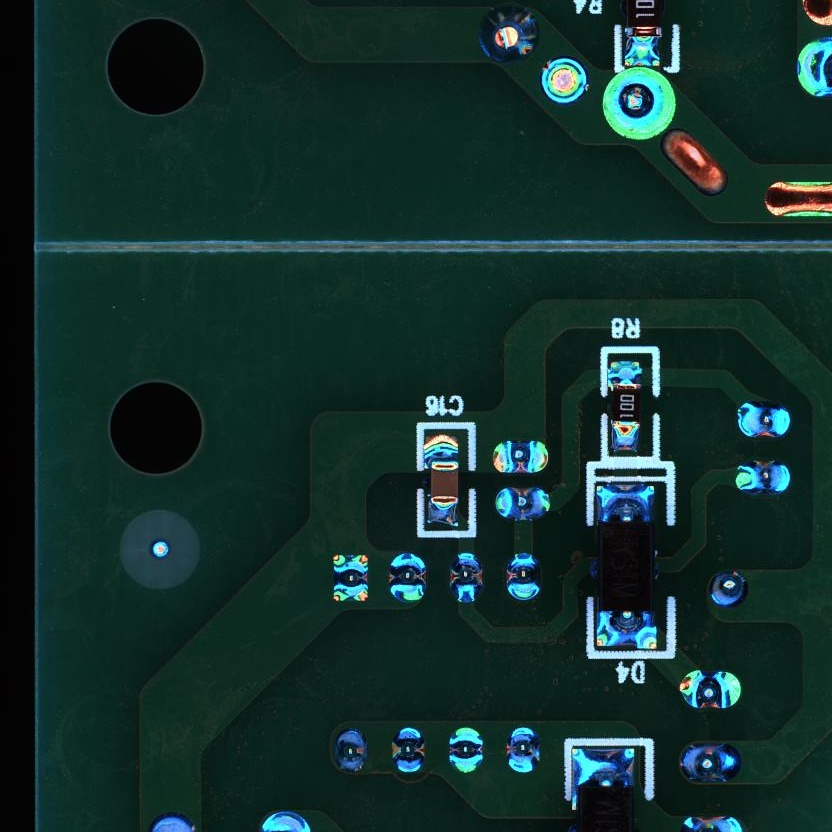spot: (601, 67, 678, 143), (475, 4, 539, 65), (677, 740, 744, 788), (679, 668, 742, 710), (733, 458, 793, 500), (539, 56, 589, 105), (735, 398, 791, 438), (491, 438, 551, 475), (494, 484, 551, 522), (387, 551, 427, 605), (330, 551, 370, 604), (502, 726, 543, 777), (503, 551, 543, 603), (447, 551, 484, 607), (446, 725, 486, 776), (390, 726, 428, 776), (330, 727, 367, 775), (709, 569, 750, 610)
